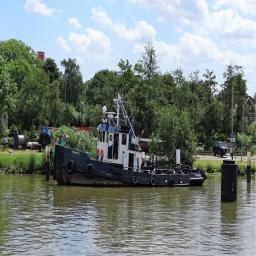tugboat: (53, 91, 209, 191)
